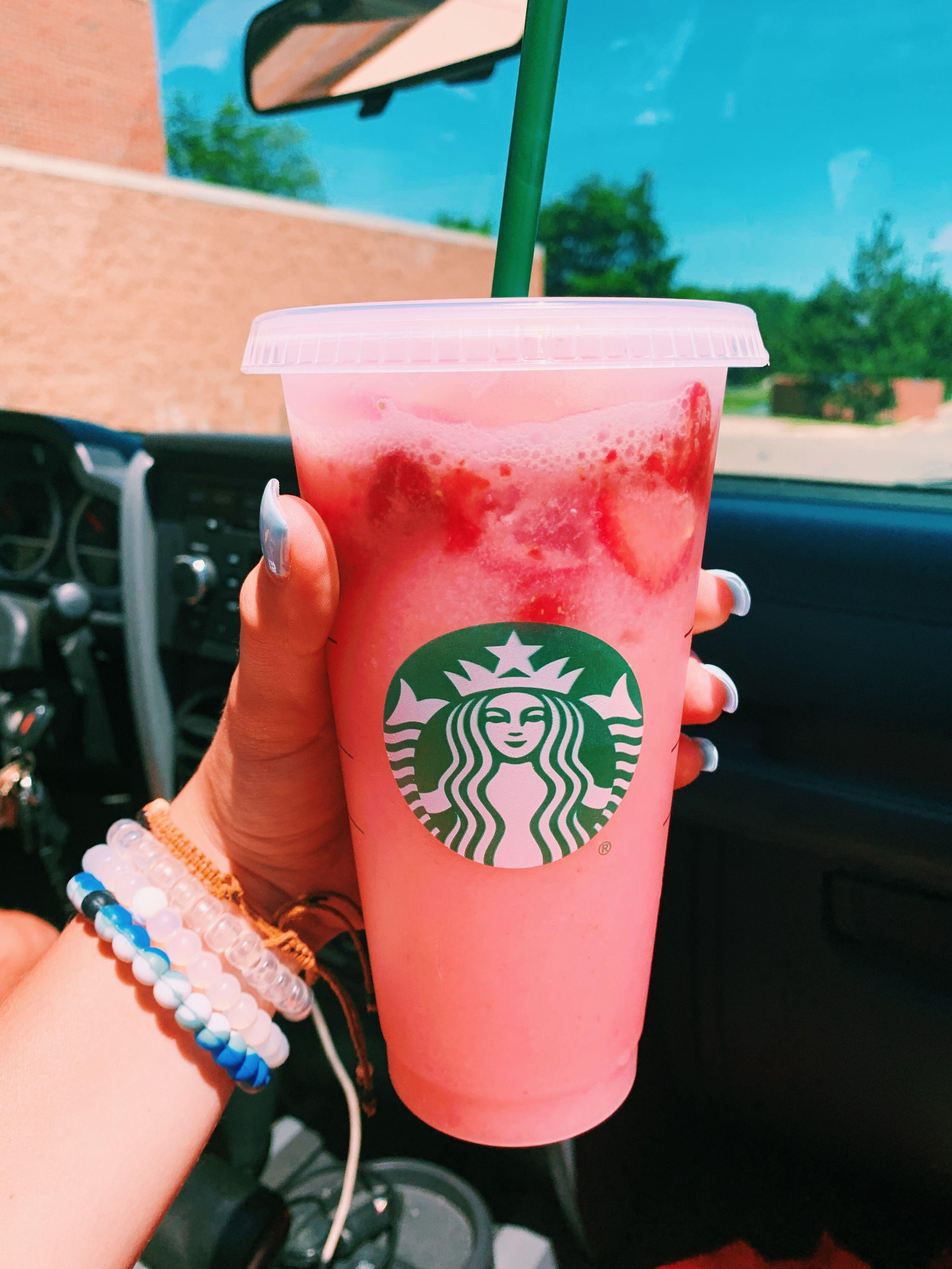cup-disposable: (242, 290, 761, 1152)
